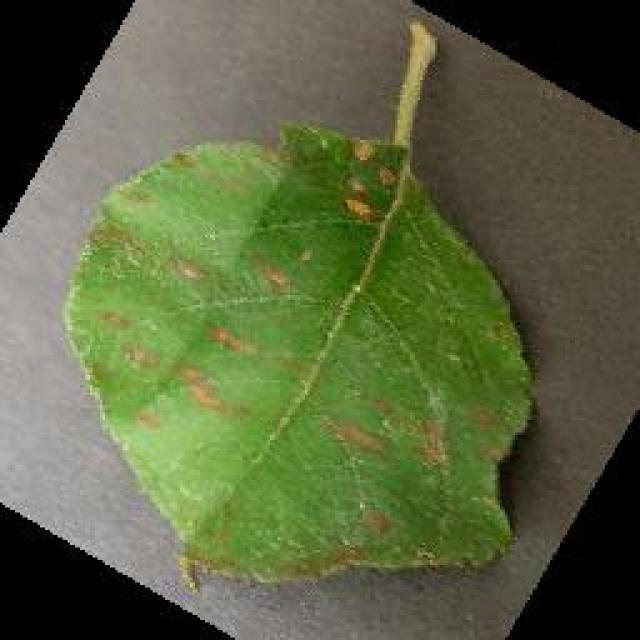apple healthy: (60, 18, 538, 592)
